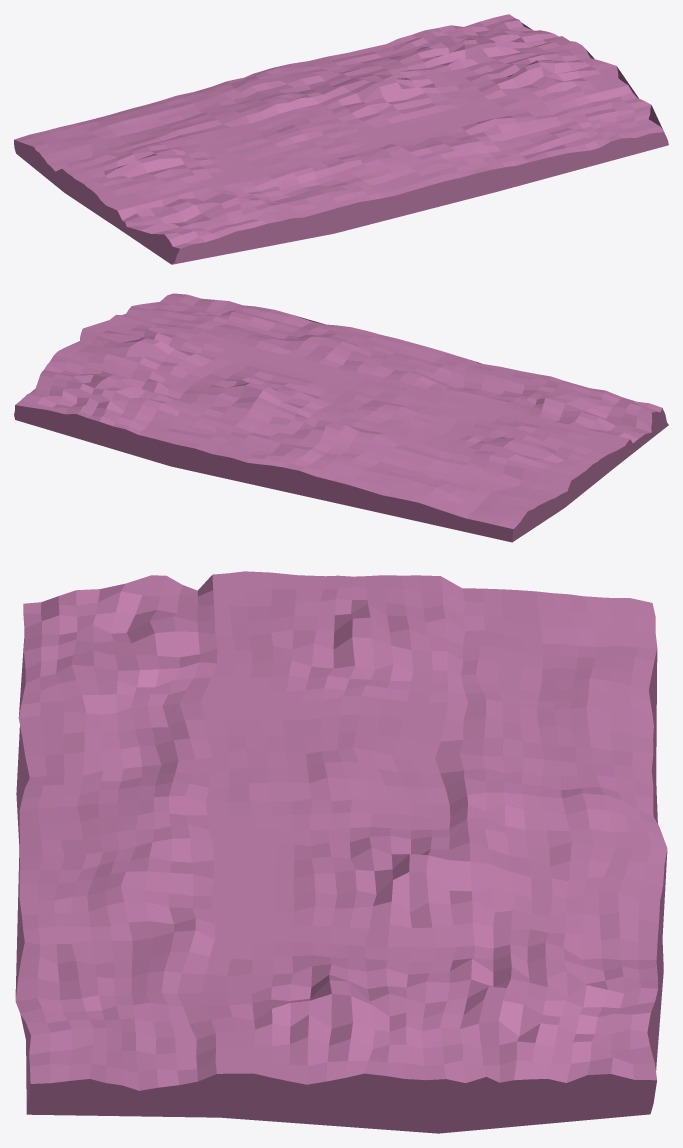
File: zemın2.fbx
The picture shows the model from 3 angles, top to bottom: view 1: azimuth 30°, elevation 25°; view 2: azimuth 150°, elevation 25°; view 3: azimuth 270°, elevation 25°; orthographic projection. The views are drawn at different scales.
Parts seen in each view (by area): view 1: Plane.016; view 2: Plane.016; view 3: Plane.016.
Part boxes in pixels (bbox=[...]): Plane.016: bbox=[14, 14, 668, 264]; Plane.016: bbox=[14, 293, 668, 542]; Plane.016: bbox=[15, 571, 667, 1133].
Bounding box in the file's own units: 5411 × 419 × 2888.
